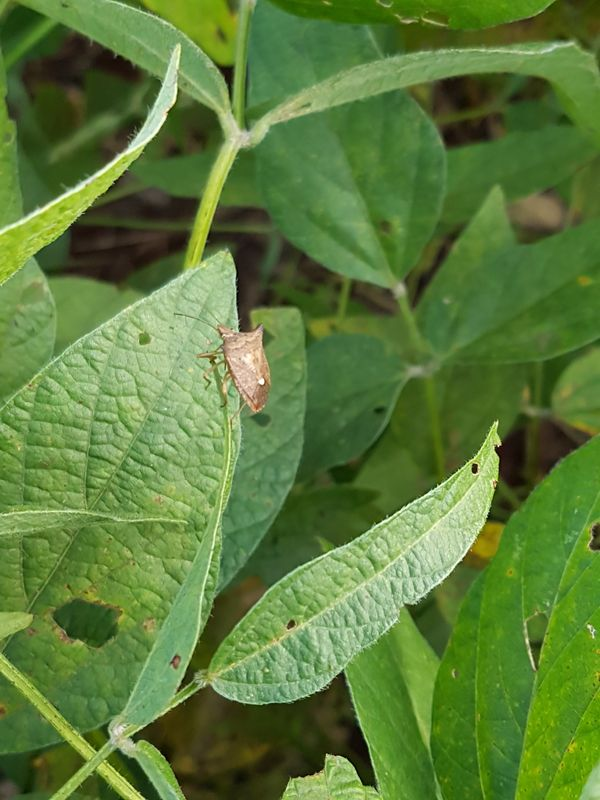Euschistus_heros_adulto: (174, 296, 282, 428)
